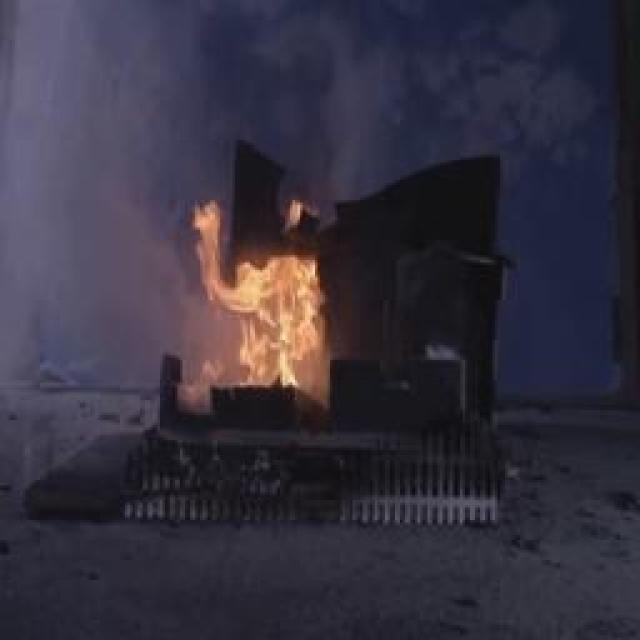fire: (175, 184, 363, 406)
